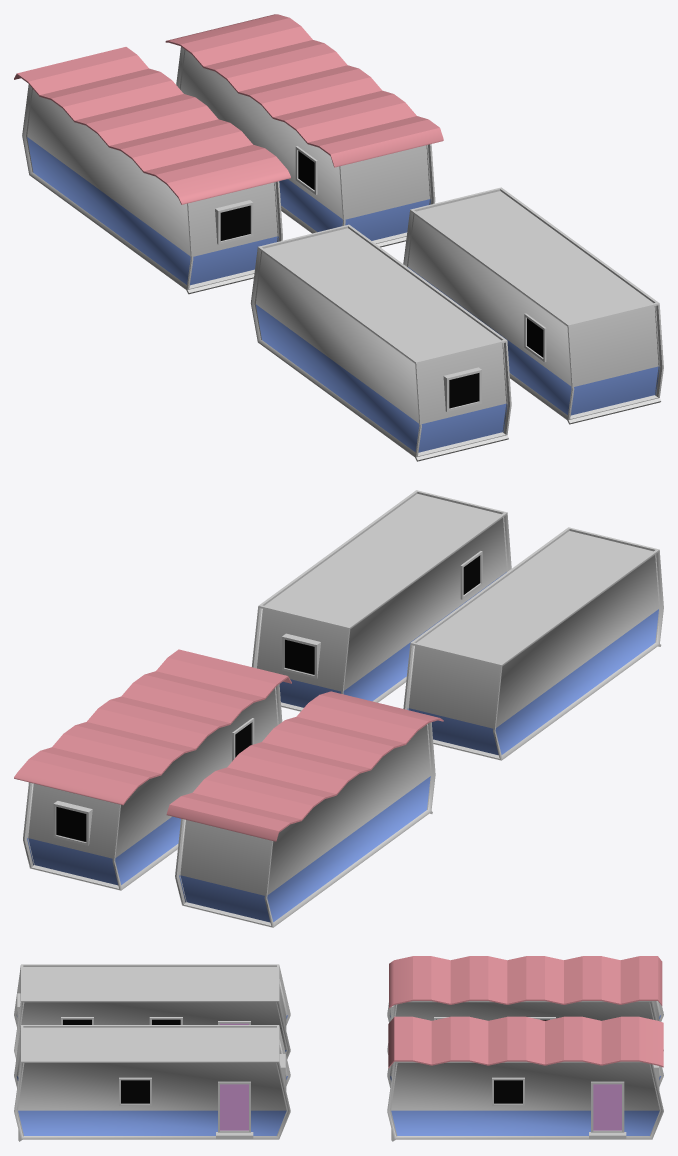
File: Campers.fbx
3 renders of one model, top to bottom at view 1: azimuth 30°, elevation 25°; view 2: azimuth 150°, elevation 25°; view 3: azimuth 270°, elevation 25°, orthographic. The views are drawn at different scales.
Parts seen in each view (by area): view 1: Cube, Cube.001, Cube.002, Cube.004, Cube.005, Cube.003; view 2: Cube, Cube.001, Cube.002, Cube.005, Cube.004, Cube.003; view 3: Cube.001, Cube.003, Cube, Cube.005, Cube.004, Cube.002.
Part boxes in pixels (left/top/right/bottom): Cube: left=250, top=224, right=511, bottom=461; Cube.001: left=403, top=187, right=663, bottom=424; Cube.002: left=22, top=84, right=282, bottom=294; Cube.004: left=14, top=47, right=290, bottom=204; Cube.005: left=165, top=14, right=443, bottom=167; Cube.003: left=176, top=47, right=435, bottom=247; Cube: left=403, top=527, right=663, bottom=760; Cube.001: left=252, top=490, right=511, bottom=711; Cube.002: left=175, top=722, right=435, bottom=927; Cube.005: left=14, top=649, right=291, bottom=805; Cube.004: left=166, top=691, right=443, bottom=841; Cube.003: left=23, top=684, right=282, bottom=890; Cube.001: left=14, top=1025, right=290, bottom=1141; Cube.003: left=387, top=1061, right=663, bottom=1141; Cube: left=14, top=964, right=290, bottom=1059; Cube.005: left=388, top=1016, right=663, bottom=1068; Cube.004: left=389, top=956, right=662, bottom=1008; Cube.002: left=387, top=1001, right=663, bottom=1054.
Size of the model in its own units: 860 by 327 by 2264.
